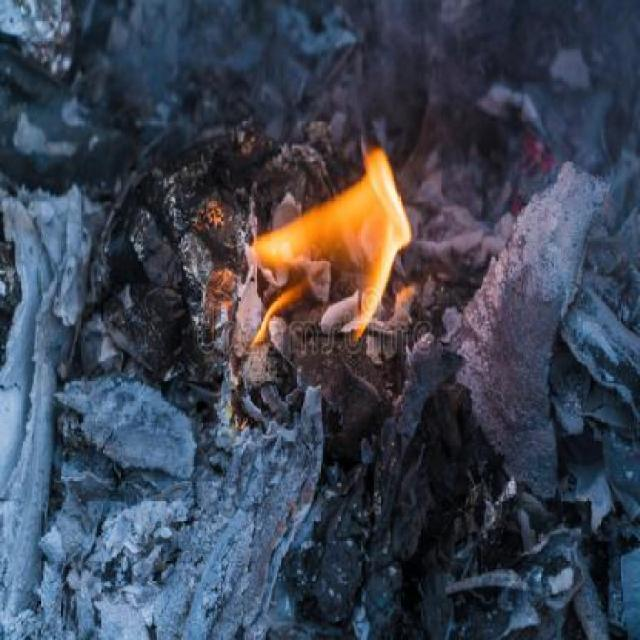Fire: (227, 140, 417, 375)
Smoke: (67, 0, 640, 290)
